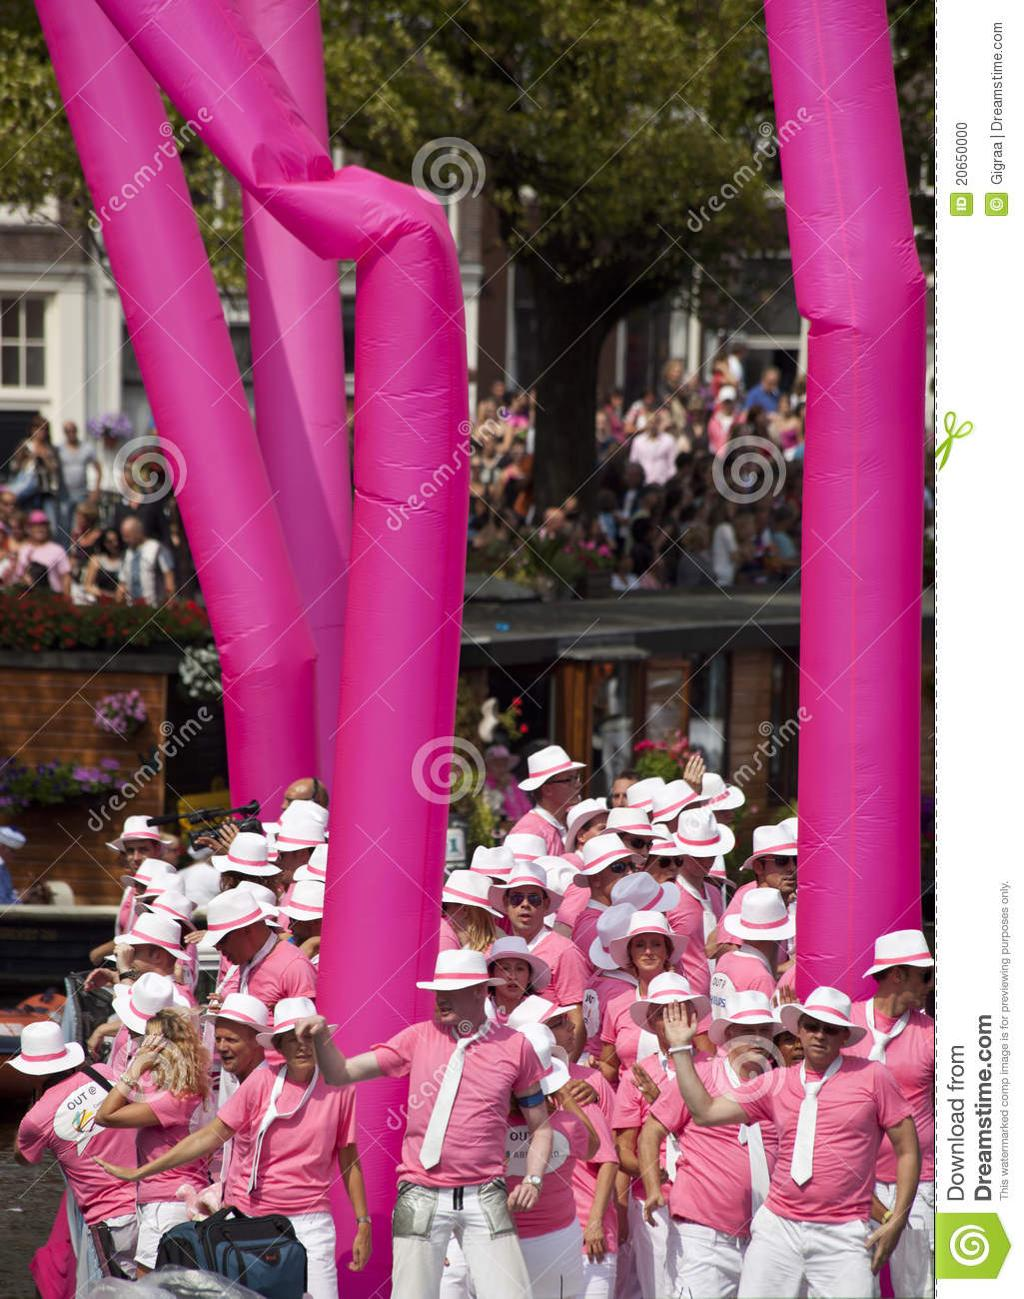face: (798, 1009, 843, 1061), (213, 1020, 252, 1070), (653, 996, 692, 1046), (507, 879, 543, 931), (581, 811, 617, 859), (539, 1008, 574, 1055), (733, 1012, 768, 1059), (434, 976, 470, 1021), (901, 961, 934, 1006), (764, 846, 797, 891), (780, 1021, 815, 1064), (123, 829, 155, 875), (647, 844, 679, 889), (494, 953, 528, 994), (280, 1022, 313, 1065), (275, 838, 307, 883), (631, 927, 664, 968), (546, 763, 580, 804), (599, 851, 628, 898), (438, 890, 466, 937), (214, 926, 247, 966), (287, 907, 315, 950), (618, 825, 649, 864), (129, 937, 156, 973), (612, 784, 639, 820), (282, 788, 309, 823), (134, 879, 152, 912), (491, 757, 507, 779)
